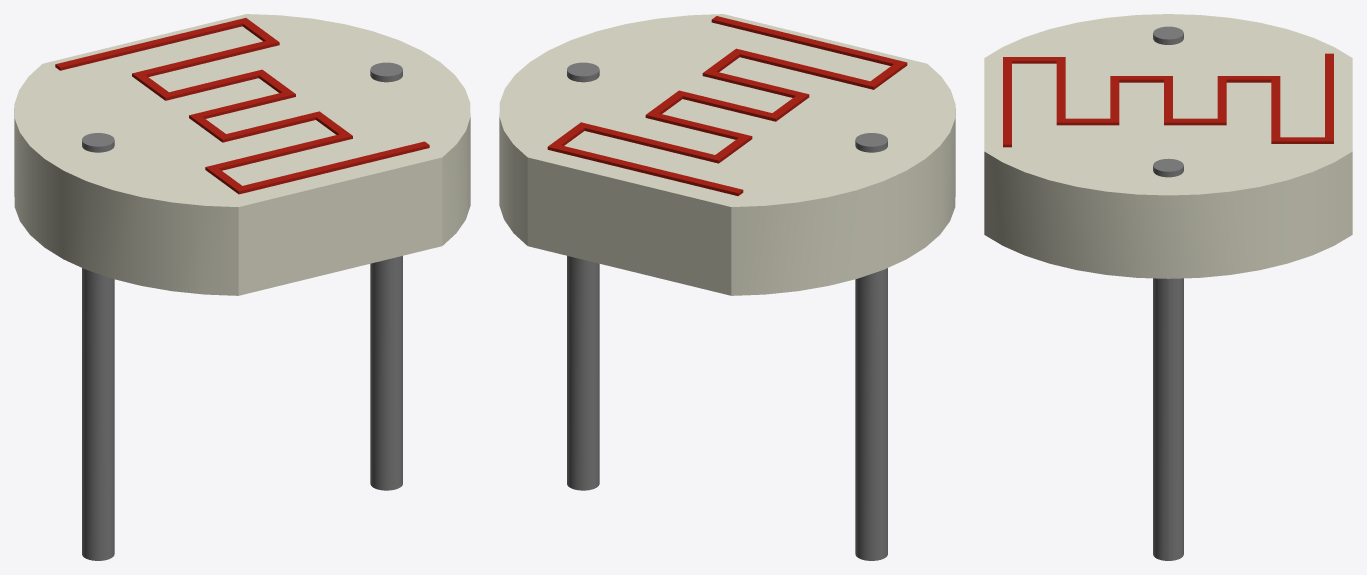
The model's file is kc-r_ldr_7x6mm_p5.1mm_vertical.glb.
3 renders of one model, left to right at view 1: azimuth 30°, elevation 25°; view 2: azimuth 150°, elevation 25°; view 3: azimuth 270°, elevation 25°, orthographic. The views are drawn at different scales.
Visible parts, largest first — view 1: 0.75_0.75_0.6666666666666666_0, 0.25_0.25_0.25_0, 0.4166666666666667_0_0_0; view 2: 0.75_0.75_0.6666666666666666_0, 0.25_0.25_0.25_0, 0.4166666666666667_0_0_0; view 3: 0.75_0.75_0.6666666666666666_0, 0.25_0.25_0.25_0, 0.4166666666666667_0_0_0.
Boxes of the visible parts, box(x1,y1,x2,y2) form: 0.75_0.75_0.6666666666666666_0: box(14, 14, 470, 295); 0.25_0.25_0.25_0: box(82, 62, 402, 560); 0.4166666666666667_0_0_0: box(55, 18, 429, 194); 0.75_0.75_0.6666666666666666_0: box(499, 14, 955, 295); 0.25_0.25_0.25_0: box(567, 62, 887, 560); 0.4166666666666667_0_0_0: box(547, 16, 907, 195); 0.75_0.75_0.6666666666666666_0: box(984, 14, 1352, 278); 0.25_0.25_0.25_0: box(1153, 26, 1183, 560); 0.4166666666666667_0_0_0: box(1003, 53, 1333, 147).
Size of the model in its own units: 0.7 by 0.7 by 0.6.
